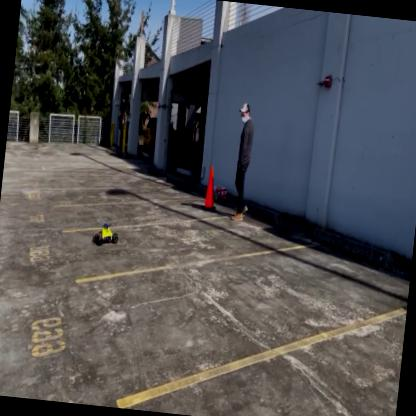cone: (202, 166, 219, 212)
mushr_car: (90, 218, 120, 252)
